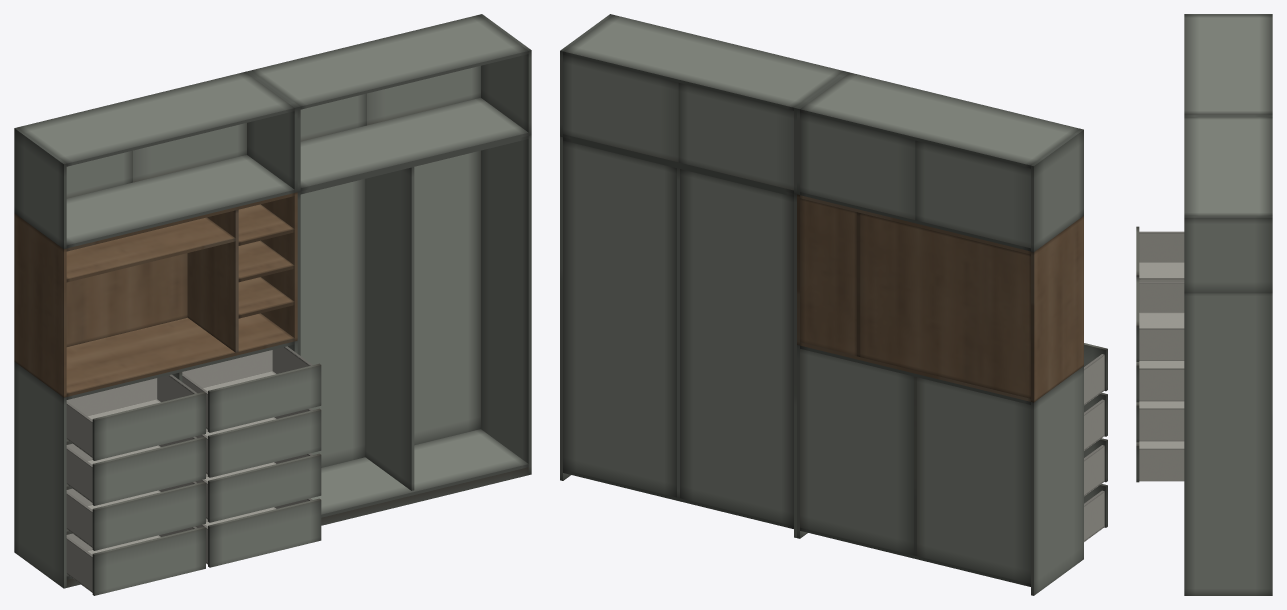
File: meuble.glb
3 views of the same model, side by side, from view 1: azimuth 30°, elevation 25°; view 2: azimuth 150°, elevation 25°; view 3: azimuth 270°, elevation 25° (orthographic). The views are drawn at different scales.
Visible parts, largest first — view 1: world; view 2: world; view 3: world.
Part boxes in pixels (bbox=[...]): world: bbox=[14, 14, 531, 595]; world: bbox=[560, 14, 1107, 595]; world: bbox=[1136, 14, 1272, 595].
Size of the model in its own units: 3 by 2.6 by 0.85.
1 material, 1 textured.
